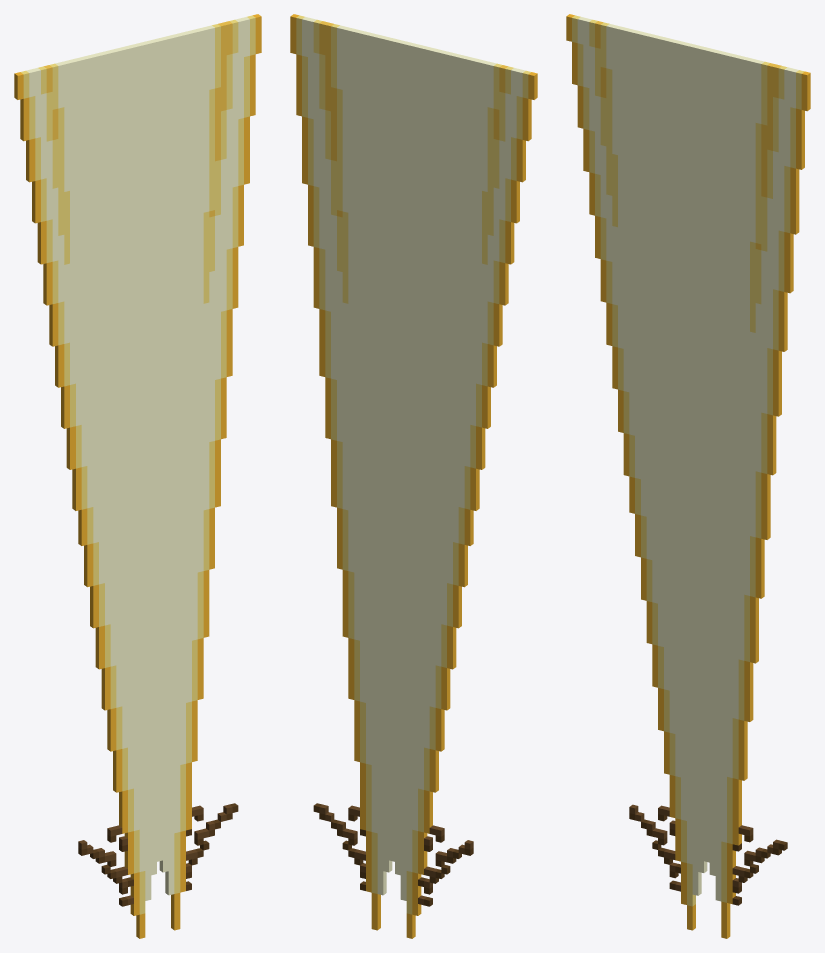
The model's file is Fight_706_2_08_fx.obj.
The picture shows the model from 3 angles, left to right: view 1: azimuth 30°, elevation 25°; view 2: azimuth 150°, elevation 25°; view 3: azimuth 330°, elevation 25°; orthographic projection.
Bounding box in the file's own units: 4.2 × 14.7 × 0.1.
Materials: 1 (1 with a texture image).
